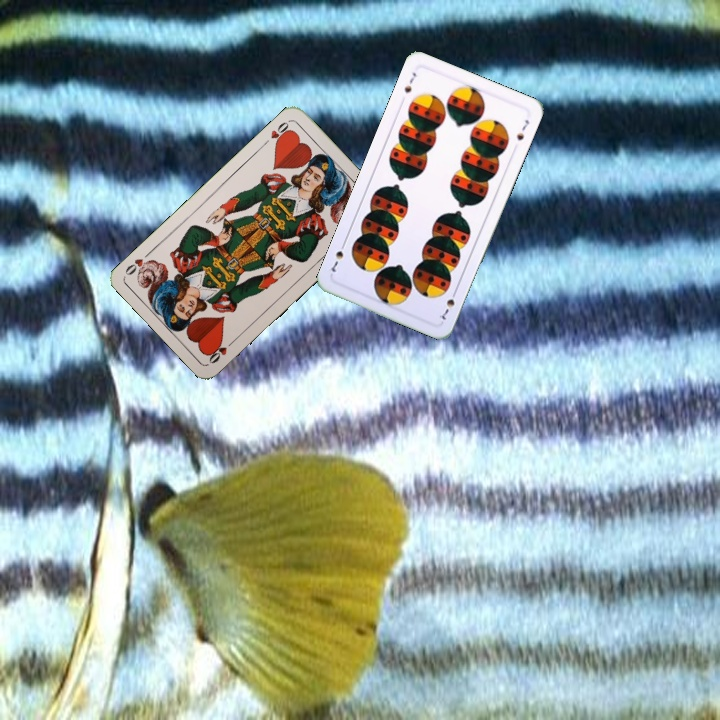HO: (259, 116, 294, 148), (204, 335, 238, 366)
S7: (435, 286, 460, 322), (400, 68, 419, 95)
